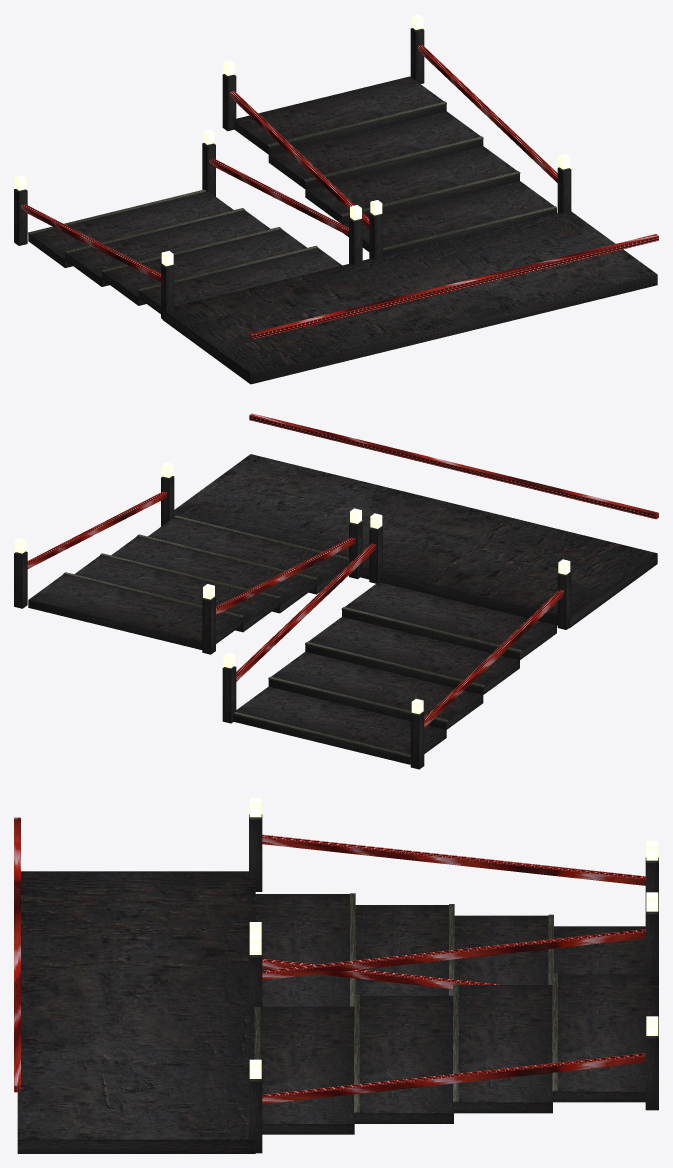
Rendered from nyanisyarud-hyakken-kaidan-hairpin.glb.
The picture shows the model from 3 angles, top to bottom: view 1: azimuth 30°, elevation 25°; view 2: azimuth 150°, elevation 25°; view 3: azimuth 270°, elevation 25°; orthographic projection. The views are drawn at different scales.
Visible parts, largest first — view 1: landing, stepB_2, stepB_3, stepB_1, stepB_0, stepA_0, stepA_1, stepA_2, stepA_3, landing_hr_back, hrB_3.9, hrB_0.2 (+17 smaller); view 2: landing, stepA_2, stepB_3, stepA_3, stepA_0, stepA_1, stepB_1, stepB_0, stepB_2, landing_hr_back, hrA_-3.9, hrA_-0.2 (+18 smaller); view 3: landing, stepB_2, stepB_1, stepB_0, stepB_3, stepA_3, stepA_2, stepA_1, hrA_-3.9, hrB_3.9, hrB_0.2, stepA_0 (+12 smaller).
Part boxes in pixels (<box>): landing: <box>162,211,657,384</box>; stepB_2: <box>268,111,483,189</box>; stepB_3: <box>234,76,446,154</box>; stepB_1: <box>305,146,519,224</box>; stepB_0: <box>342,181,556,255</box>; stepA_0: <box>28,191,233,267</box>; stepA_1: <box>65,210,270,286</box>; stepA_2: <box>102,229,306,305</box>; stepA_3: <box>138,248,341,313</box>; landing_hr_back: <box>249,234,658,339</box>; hrB_3.9: <box>417,44,557,182</box>; hrB_0.2: <box>229,90,369,228</box>; landing: <box>174,454,657,628</box>; stepA_2: <box>305,617,519,694</box>; stepB_3: <box>28,574,243,649</box>; stepA_3: <box>342,582,556,659</box>; stepA_0: <box>233,686,446,764</box>; stepA_1: <box>268,651,483,729</box>; stepB_1: <box>111,536,316,613</box>; stepB_0: <box>148,517,350,594</box>; stepB_2: <box>74,555,279,632</box>; landing_hr_back: <box>249,413,658,519</box>; hrA_-3.9: <box>424,589,564,727</box>; hrA_-0.2: <box>236,543,375,681</box>; landing: <box>17,871,255,1153</box>; stepB_2: <box>454,985,552,1113</box>; stepB_1: <box>354,995,453,1123</box>; stepB_0: <box>260,1006,354,1134</box>; stepB_3: <box>553,974,652,1102</box>; stepA_3: <box>255,894,349,1006</box>; stepA_2: <box>355,905,448,995</box>; stepA_1: <box>454,915,548,984</box>; hrA_-3.9: <box>262,834,645,885</box>; hrB_3.9: <box>262,1053,645,1104</box>; hrB_0.2: <box>262,929,645,979</box>; stepA_0: <box>554,926,645,974</box>.
Size of the model in its own units: 8 by 2.43 by 8.13.
4 materials, 4 textured.
